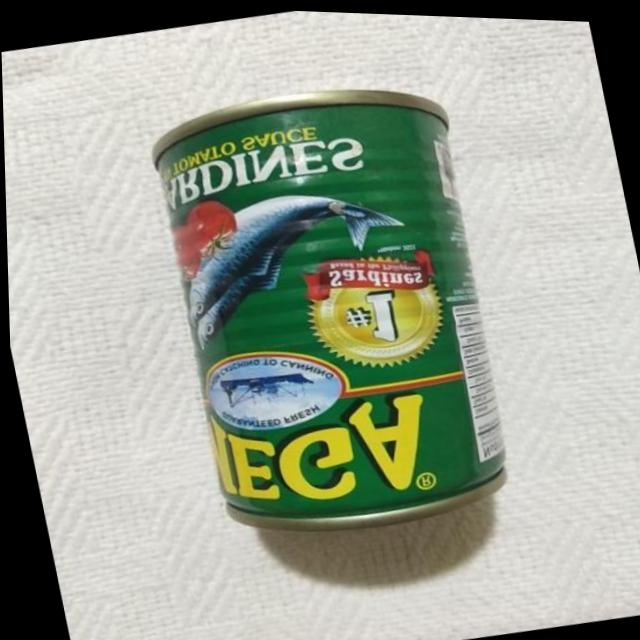metal: (153, 91, 503, 528)
